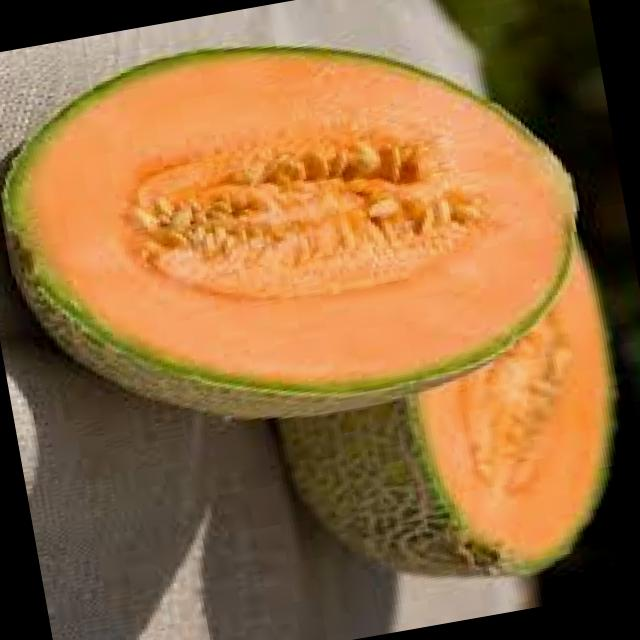cantaloupe: (0, 0, 601, 457), (259, 257, 640, 613)
